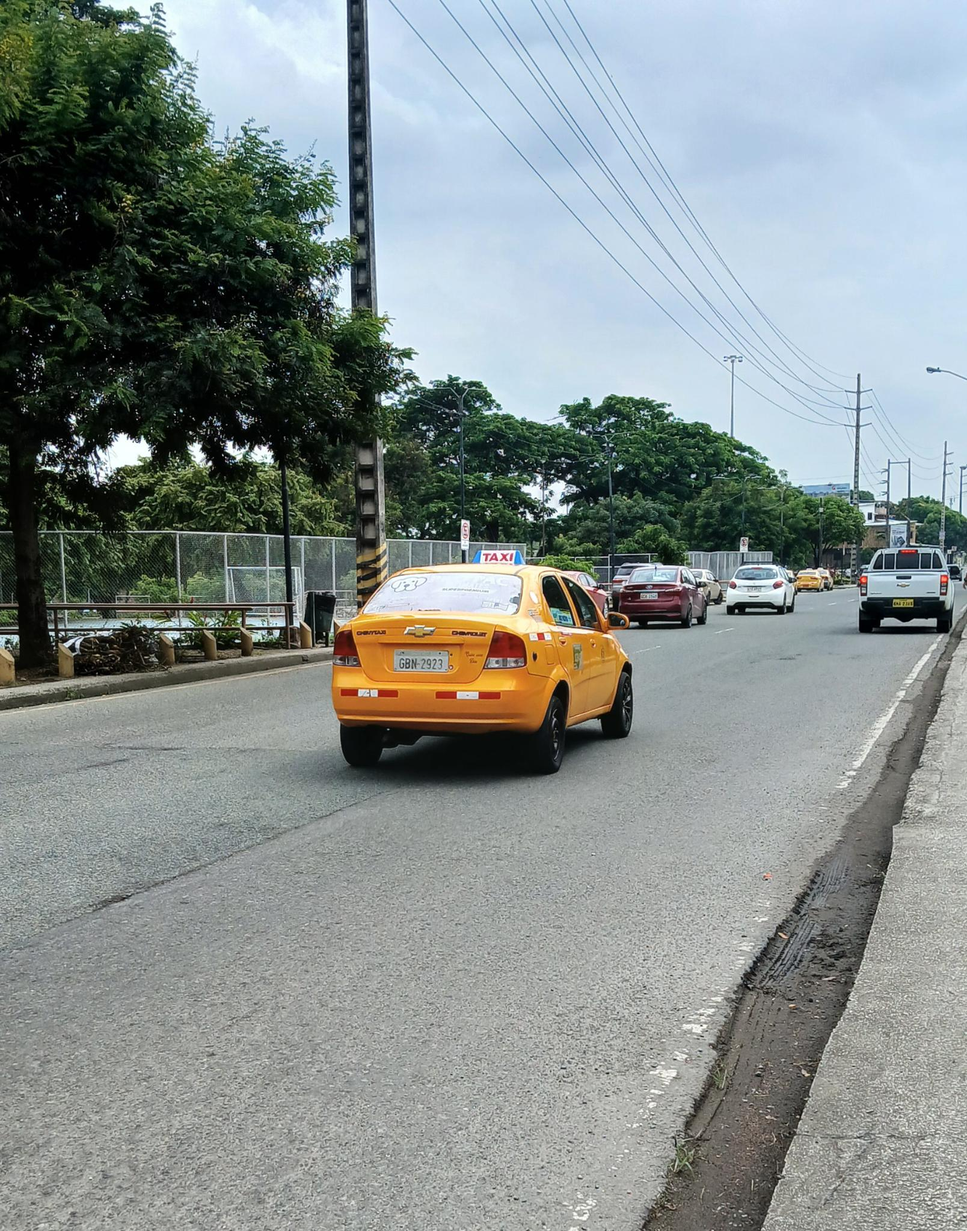license_plate: (393, 650, 449, 672), (891, 598, 914, 606), (744, 586, 764, 595), (638, 592, 660, 600)
